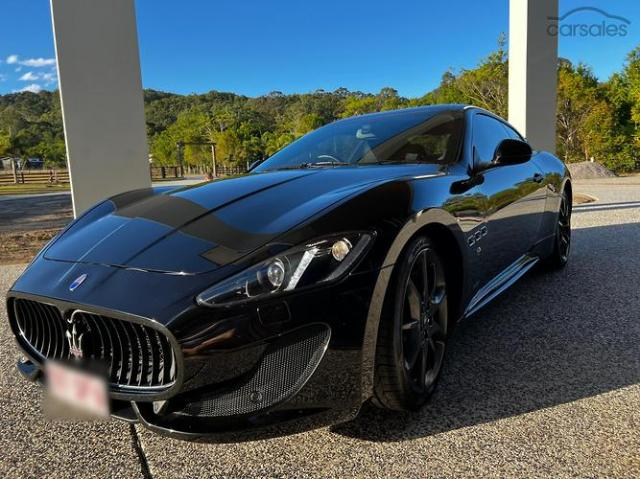maserati: (5, 104, 572, 444)
